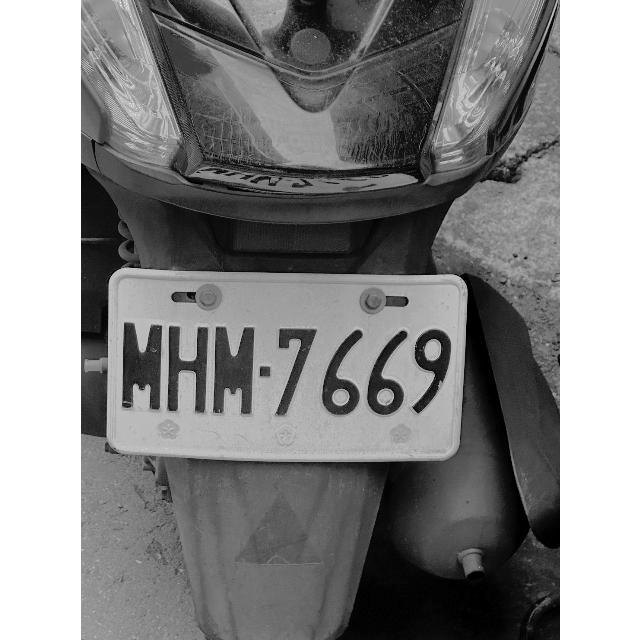-: (258, 362, 274, 384)
6: (320, 322, 364, 420), (364, 323, 408, 419)
7: (272, 324, 318, 422)
9: (408, 322, 454, 422)
H: (164, 322, 208, 418)
M: (211, 324, 255, 421), (120, 320, 164, 416)
